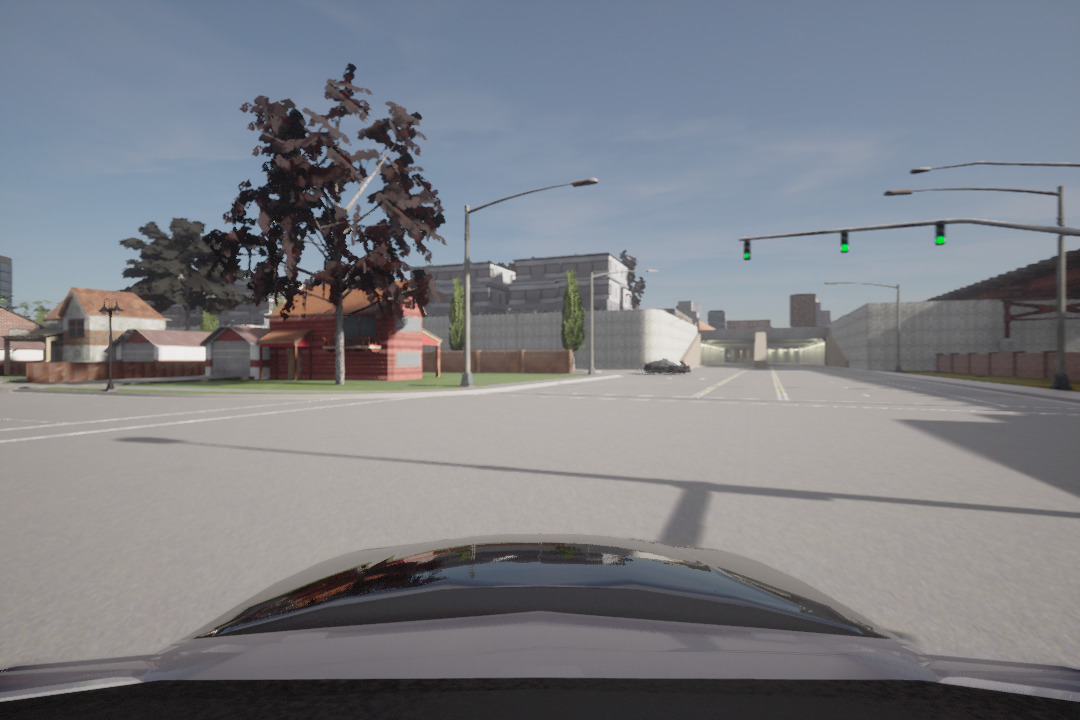TrafficLight: (932, 217, 947, 248), (738, 234, 752, 261), (839, 227, 851, 254)
